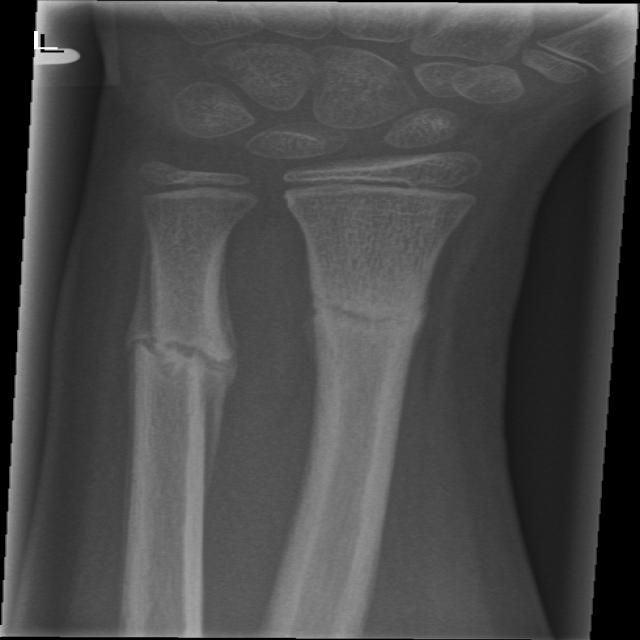radius fracture: (281, 248, 472, 435)
ulna fracture: (106, 274, 260, 491)
